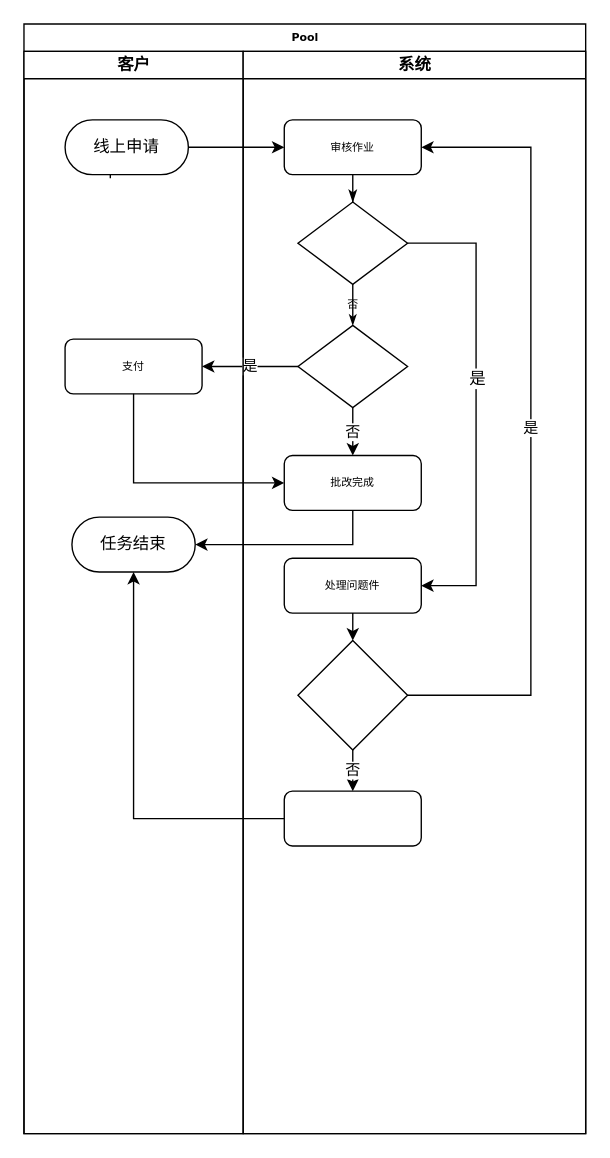
This 610x1158 diagram has some shape labels left out. Each missing label, with the centre of its shape:
"撤件" belongs at (352,818).
"继续处理" belongs at (352,694).
"问题件" belongs at (352,242).
"需支付" belongs at (352,366).
